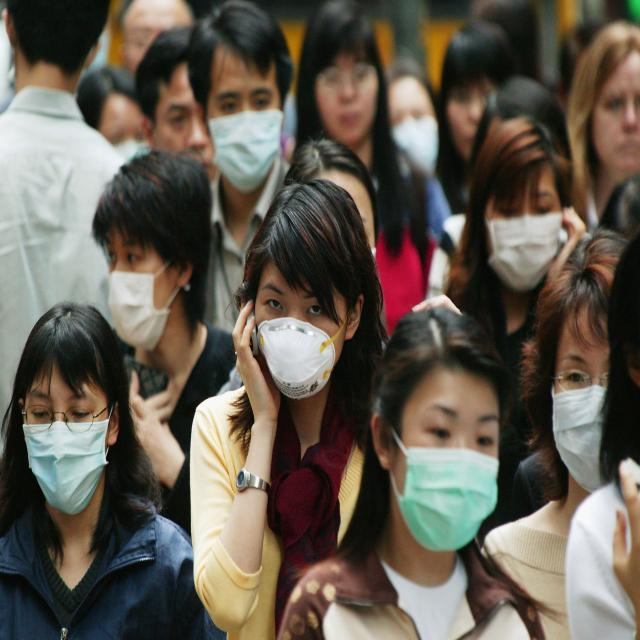adult: (191, 183, 389, 640), (277, 305, 531, 640), (0, 305, 191, 640), (484, 224, 627, 640), (92, 149, 229, 422), (190, 6, 292, 362), (446, 115, 580, 370), (298, 5, 408, 162), (568, 21, 640, 215)
